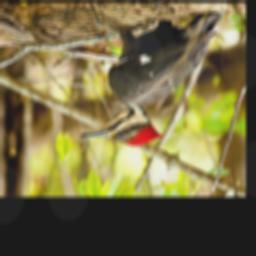Woodpecker: (77, 11, 222, 145)
